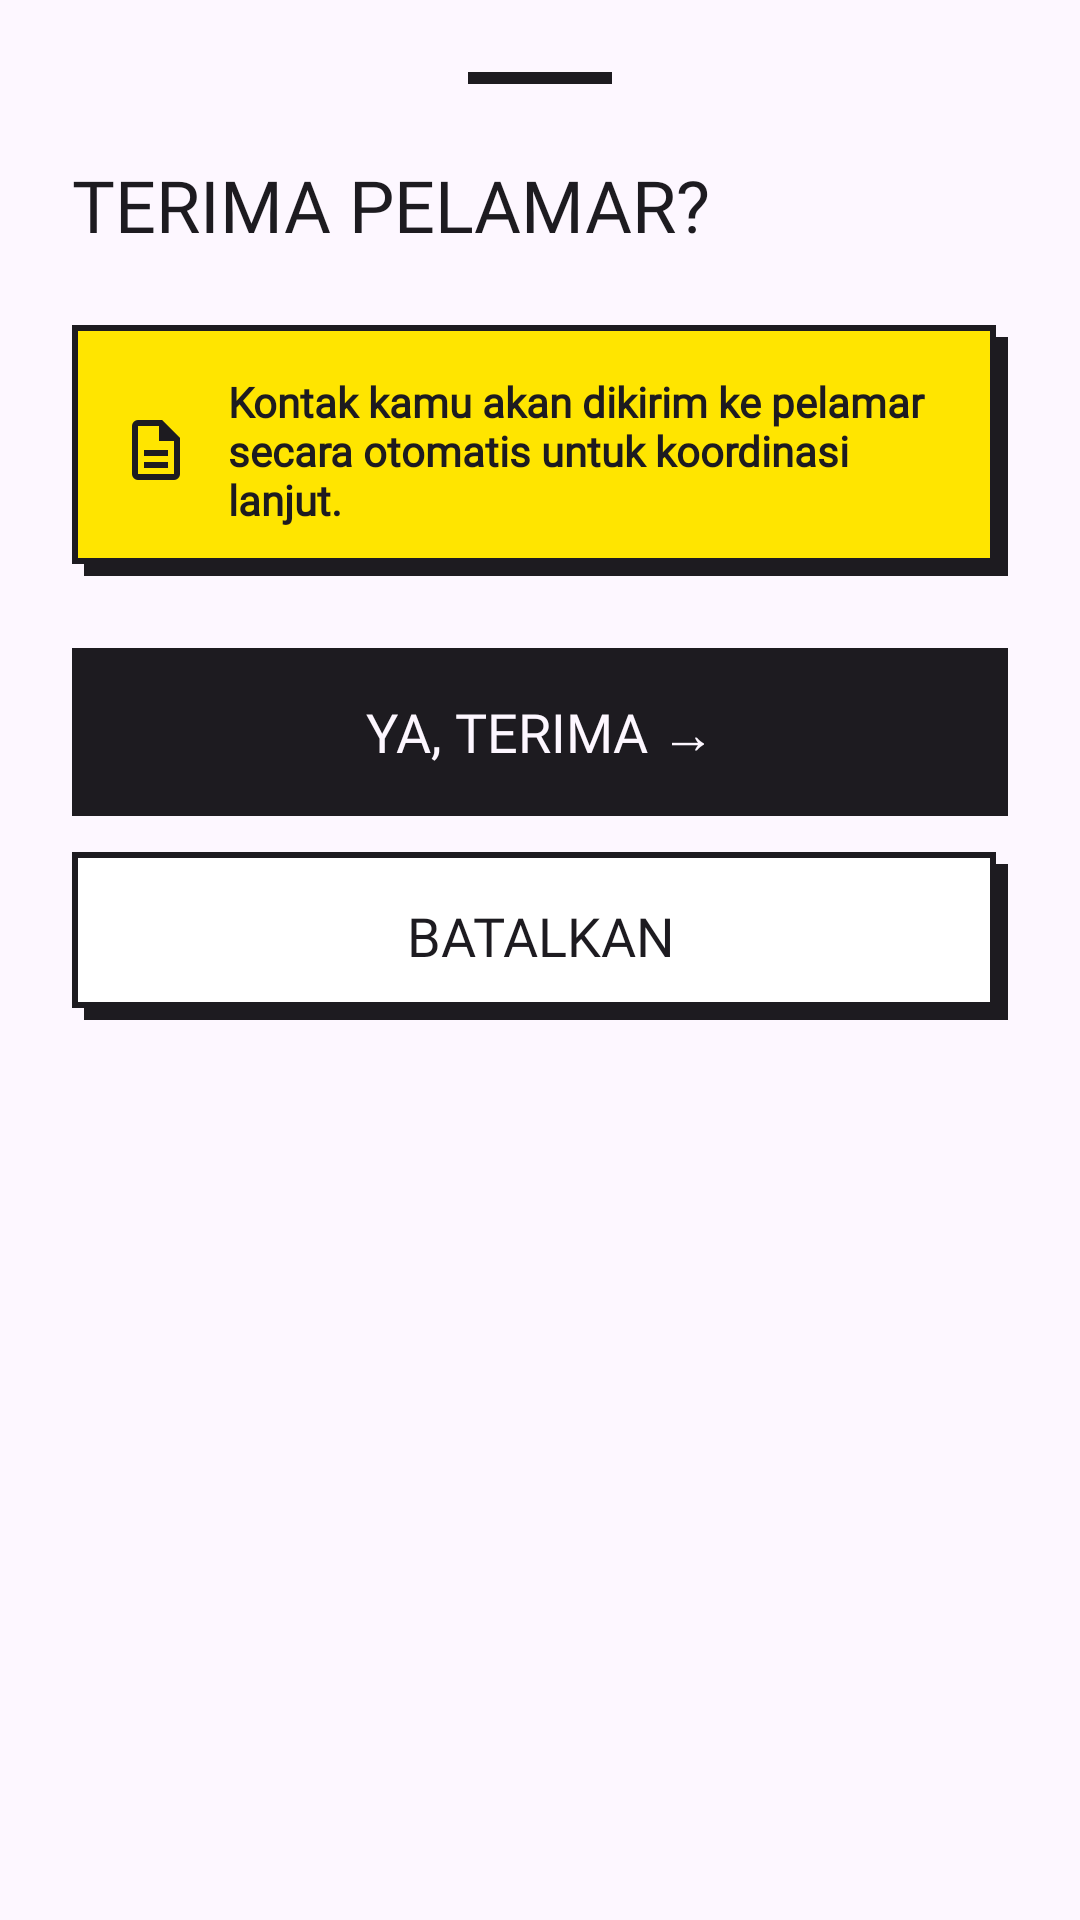

Locate icon controls on the screen. Image size 1080w x 1920h, boxes as [x1=x1, y1=y1, x2=x2, y2=y2].
description: [x1=132, y1=420, x2=180, y2=480]
